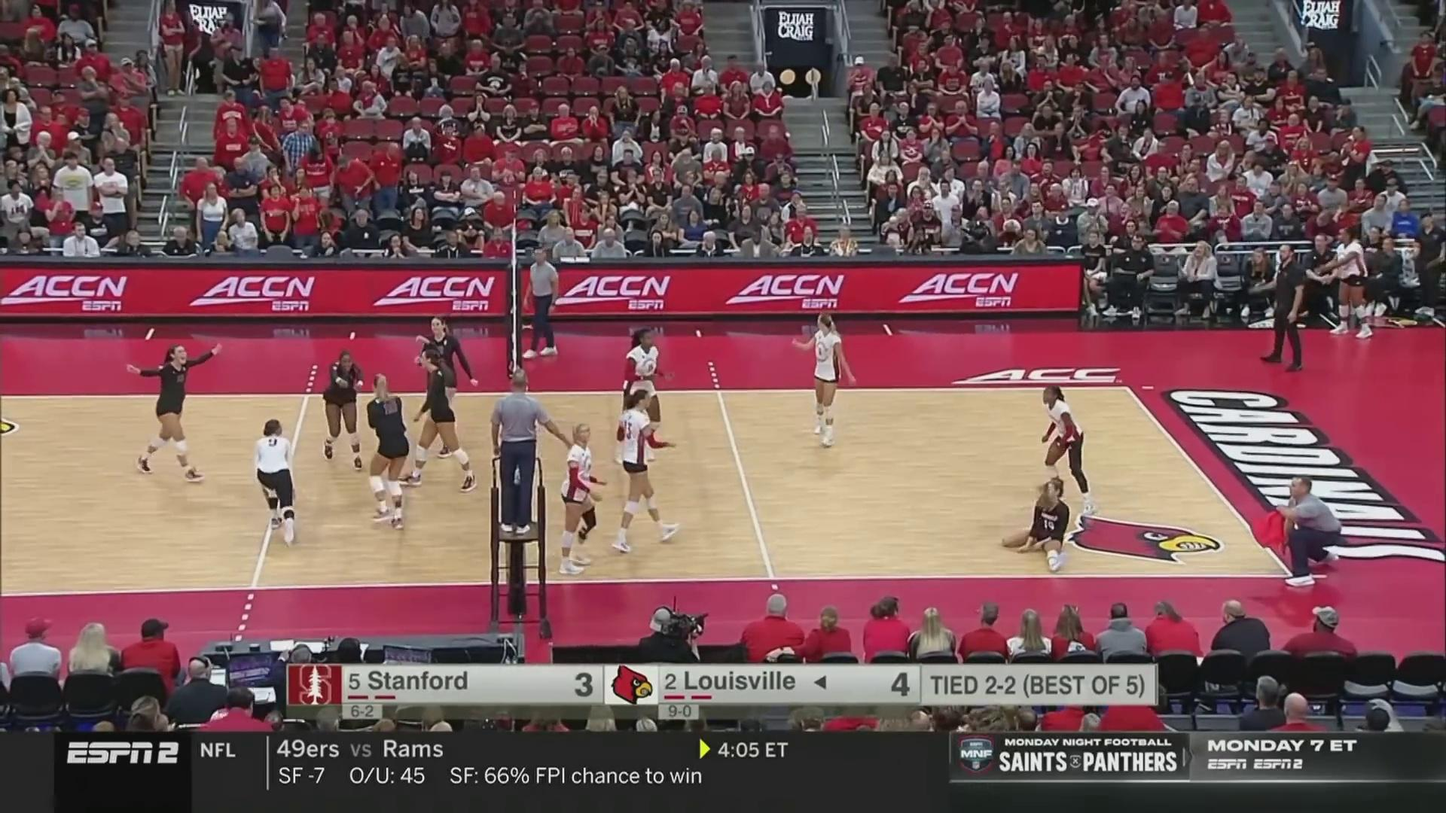player: (130, 341, 216, 483), (403, 351, 476, 491), (614, 391, 677, 553), (793, 314, 853, 446), (364, 372, 412, 529), (420, 317, 471, 461), (1041, 388, 1097, 519), (559, 422, 603, 577), (615, 331, 666, 464), (1001, 480, 1071, 574), (249, 418, 299, 545), (320, 349, 365, 470)
refree: (493, 371, 549, 534), (1274, 473, 1347, 589), (526, 248, 563, 361)
